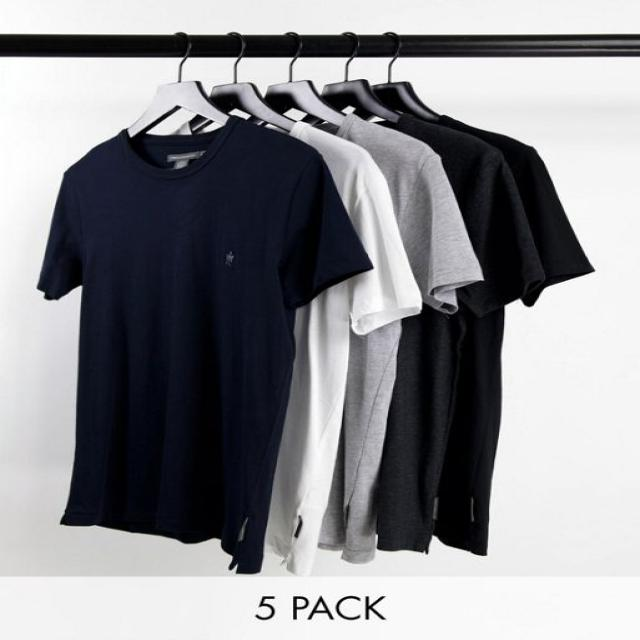tshirt: (36, 112, 368, 563)
